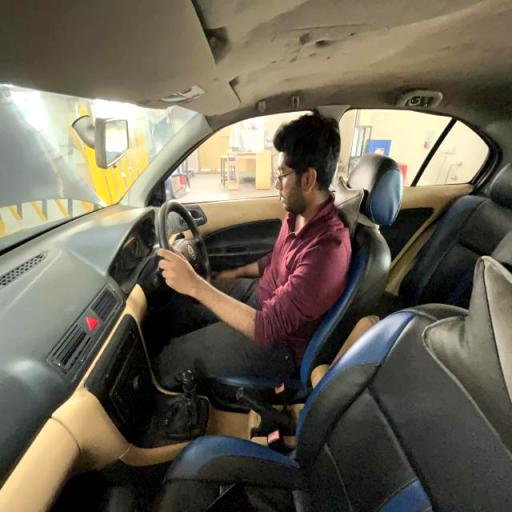Reaching_behind: (159, 110, 352, 360)
